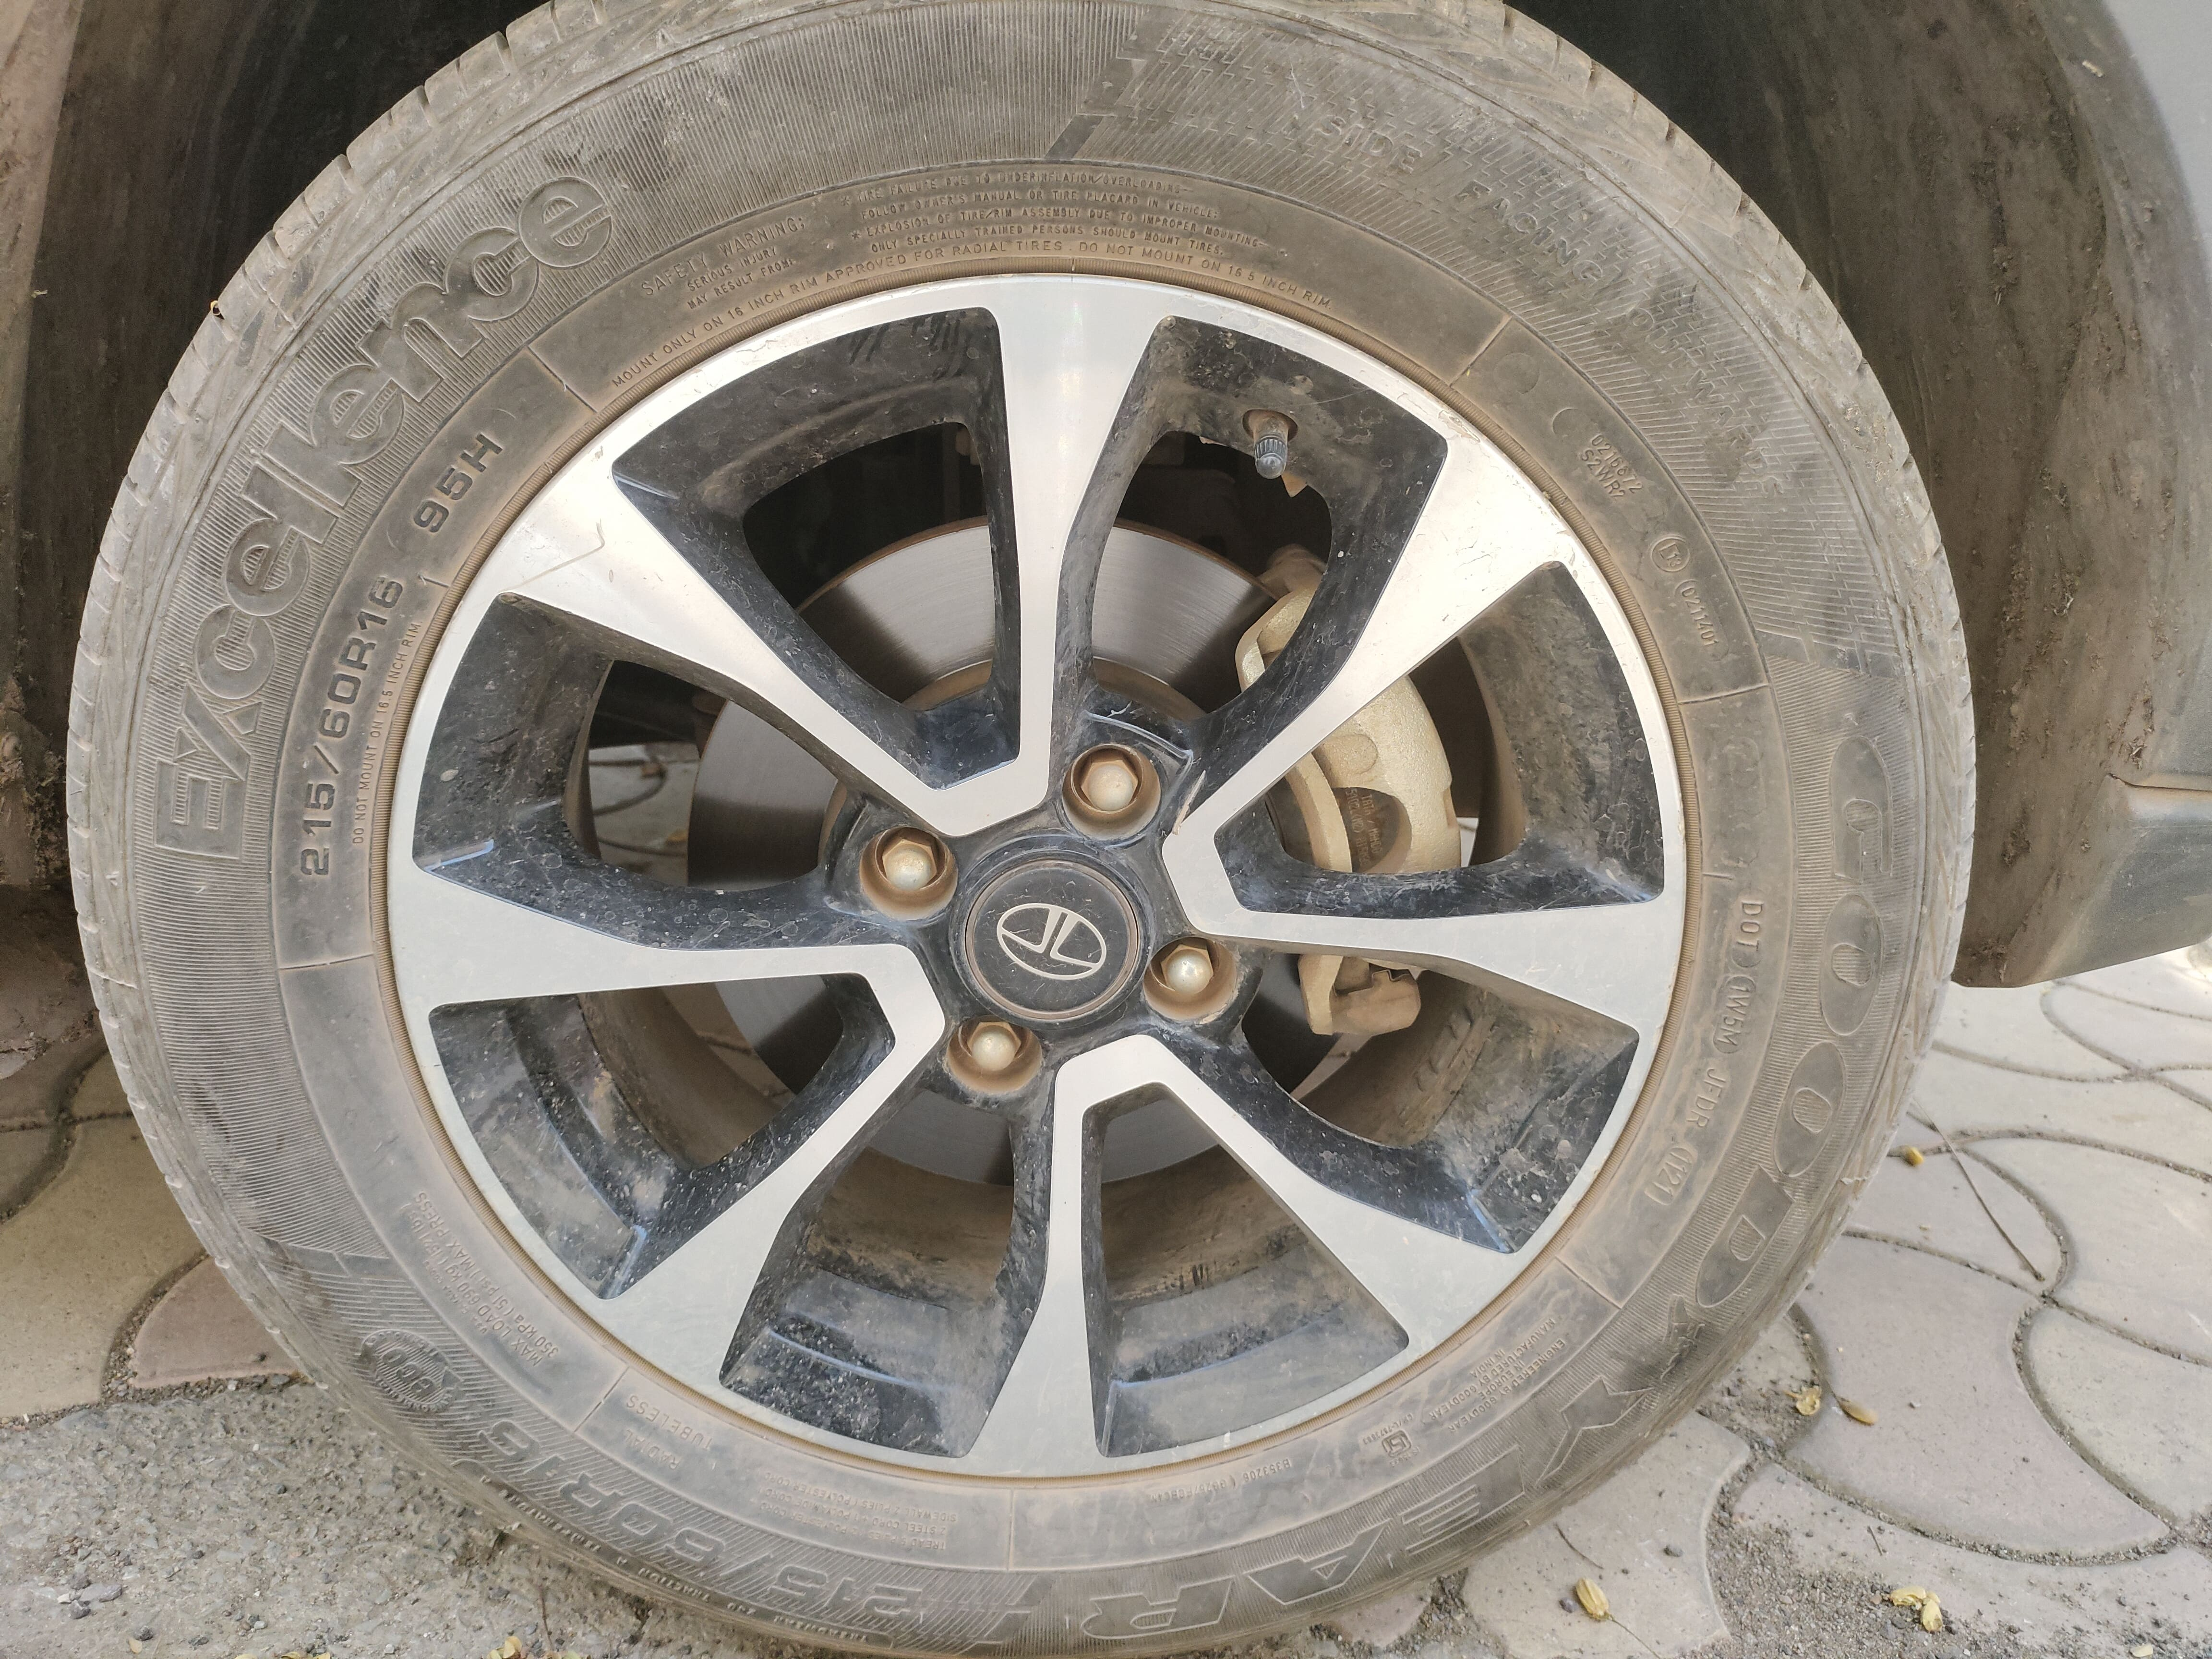l: (932, 993, 1062, 1122), (1125, 934, 1230, 1033), (859, 814, 951, 922), (1066, 737, 1153, 833)
